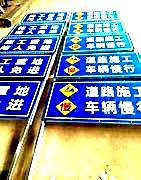sign: (50, 84, 141, 122), (59, 54, 140, 78), (1, 79, 34, 119), (1, 53, 48, 78), (65, 36, 132, 52), (1, 37, 55, 52), (70, 22, 123, 34), (10, 23, 61, 34), (23, 11, 66, 22), (73, 11, 118, 21)
